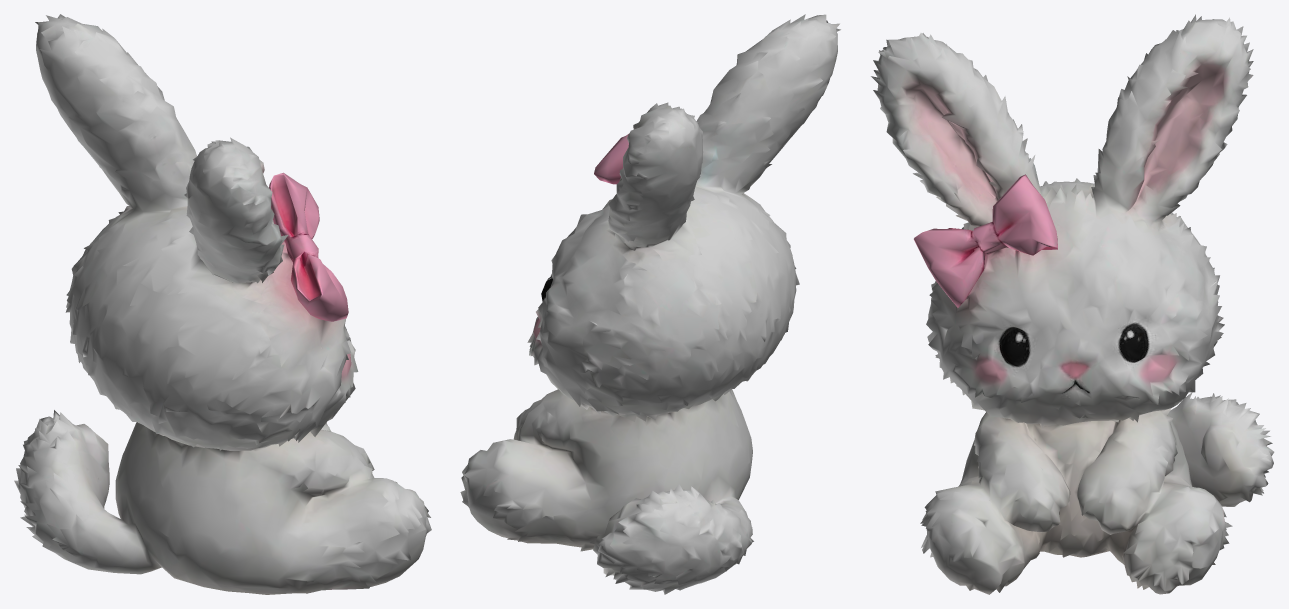
File: rabbit.glb
3 views of the same model, side by side, from view 1: azimuth 30°, elevation 25°; view 2: azimuth 150°, elevation 25°; view 3: azimuth 270°, elevation 25° (orthographic). The views are drawn at different scales.
Visible parts, largest first — view 1: tripo_node_78ad1971-a585-4d98-b0f7-18215d753b44; view 2: tripo_node_78ad1971-a585-4d98-b0f7-18215d753b44; view 3: tripo_node_78ad1971-a585-4d98-b0f7-18215d753b44.
Boxes of the visible parts, box(x1,y1,x2,y2) form: tripo_node_78ad1971-a585-4d98-b0f7-18215d753b44: box(14, 14, 431, 594); tripo_node_78ad1971-a585-4d98-b0f7-18215d753b44: box(460, 14, 840, 594); tripo_node_78ad1971-a585-4d98-b0f7-18215d753b44: box(871, 14, 1274, 594).
Bounding box in the file's own units: 0.6085 × 1 × 0.759.
1 material, 1 textured.
